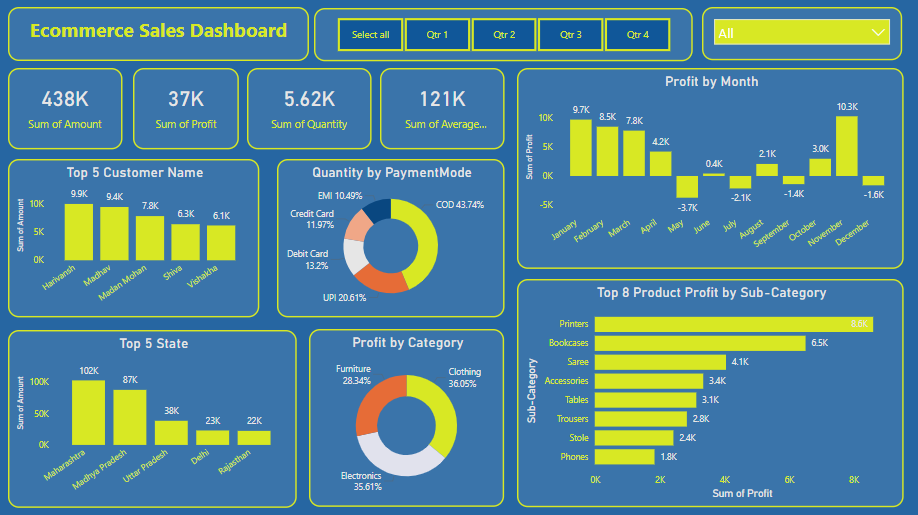

This screenshot's page, from the dashboard's own definition file:
{"tool":"powerbi","page":{"name":"Dashboard","canvas":[1280,720],"ordinal":0},"visuals":[{"type":"columnChart","title":"Profit by Month","fields":{"Category":["Orders.Order Date.Variation.Date Hierarchy.Month"],"Y":["Details.Profit"]},"box":[718.6,95,537.2,279.2],"z":0},{"type":"barChart","title":"Top 8 Product Profit by Sub-Category","fields":{"Category":["Details.Sub-Category"],"Y":["Details.Profit"]},"box":[718.6,386.9,537.2,317.5],"z":1000},{"type":"donutChart","title":"Profit by Category","fields":{"Category":["Details.Category"],"Y":["Details.Profit"]},"box":[429.4,456.4,270.7,246.6],"z":2000},{"type":"pieChart","title":"Quantity by PaymentMode","fields":{"Category":["Details.PaymentMode"],"Y":["Details.Quantity"]},"box":[384.1,221.1,316.1,219.7],"z":3000},{"type":"cardVisual","fields":{"Data":["Details.Amount"]},"box":[11.3,95,158.7,113.4],"z":4000},{"type":"cardVisual","fields":{"Data":["Details.Profit"]},"box":[184.3,95,147.4,113.4],"z":5000},{"type":"cardVisual","fields":{"Data":["Details.Quantity"]},"box":[343,95,172.9,113.4],"z":6000},{"type":"cardVisual","fields":{"Data":["Details.Average order value"]},"box":[527.2,95,172.9,113.4],"z":7000},{"type":"columnChart","title":"Top 5 Customer Name","fields":{"Category":["Orders.CustomerName"],"Y":["Details.Amount"]},"box":[11.3,221.1,348.7,219.7],"z":8000},{"type":"columnChart","title":"Top 5 State","fields":{"Category":["Orders.State"],"Y":["Details.Amount"]},"box":[11.3,457.8,401.1,246.6],"z":9000},{"type":"slicer","fields":{"Values":["Orders.Order Date.Variation.Date Hierarchy.Quarter"]},"box":[436.5,11.3,525.8,73.7],"z":10000},{"type":"slicer","fields":{"Values":["Orders.State"]},"box":[975.1,9.9,277.8,73.7],"z":11000},{"type":"textbox","box":[11.3,9.9,418.1,75.1],"z":12000}]}

Visuals, with their boxes in screenshot pixels (x1, y1, x2, y2), scaled from the page's 1280x720 canvas onto the 918x515 screenshot:
"Profit by Month" columnChart: [left=515, top=68, right=901, bottom=268]
"Top 8 Product Profit by Sub-Category" barChart: [left=515, top=277, right=901, bottom=504]
"Profit by Category" donutChart: [left=308, top=326, right=502, bottom=503]
"Quantity by PaymentMode" pieChart: [left=275, top=158, right=502, bottom=315]
cardVisual - Details.Amount: [left=8, top=68, right=122, bottom=149]
cardVisual - Details.Profit: [left=132, top=68, right=238, bottom=149]
cardVisual - Details.Quantity: [left=246, top=68, right=370, bottom=149]
cardVisual - Details.Average order value: [left=378, top=68, right=502, bottom=149]
"Top 5 Customer Name" columnChart: [left=8, top=158, right=258, bottom=315]
"Top 5 State" columnChart: [left=8, top=327, right=296, bottom=504]
slicer - Orders.Order Date.Variation.Date Hierarchy.Quarter: [left=313, top=8, right=690, bottom=61]
slicer - Orders.State: [left=699, top=7, right=899, bottom=60]
textbox: [left=8, top=7, right=308, bottom=61]
